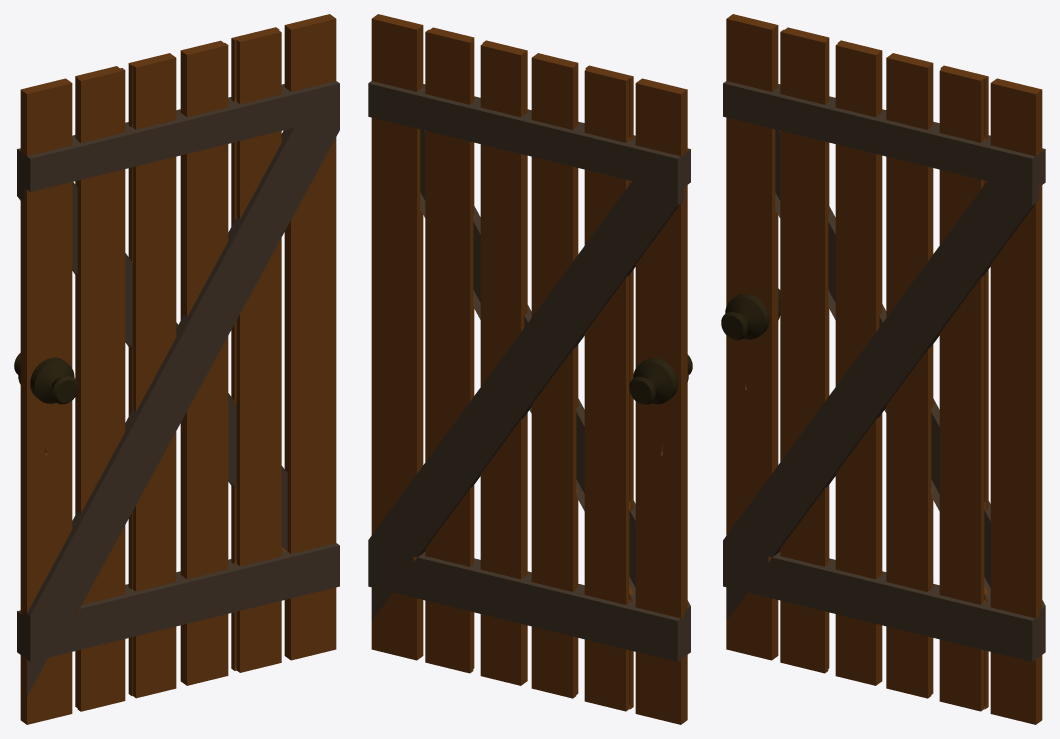
Rendered from puerta sin llave.fbx.
3 renders of one model, left to right at view 1: azimuth 30°, elevation 25°; view 2: azimuth 150°, elevation 25°; view 3: azimuth 330°, elevation 25°, orthographic.
Visible parts, largest first — view 1: puerta madera; view 2: puerta madera; view 3: puerta madera.
Part boxes in pixels (bbox=[...]): puerta madera: bbox=[14, 14, 339, 724]; puerta madera: bbox=[368, 14, 692, 724]; puerta madera: bbox=[721, 14, 1045, 724].
Bounding box in the file's own units: 547 × 1066 × 125.
